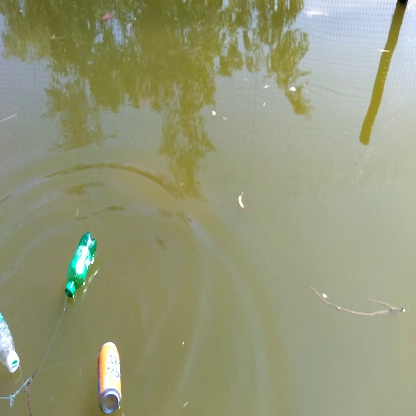bottle: (68, 228, 100, 309)
